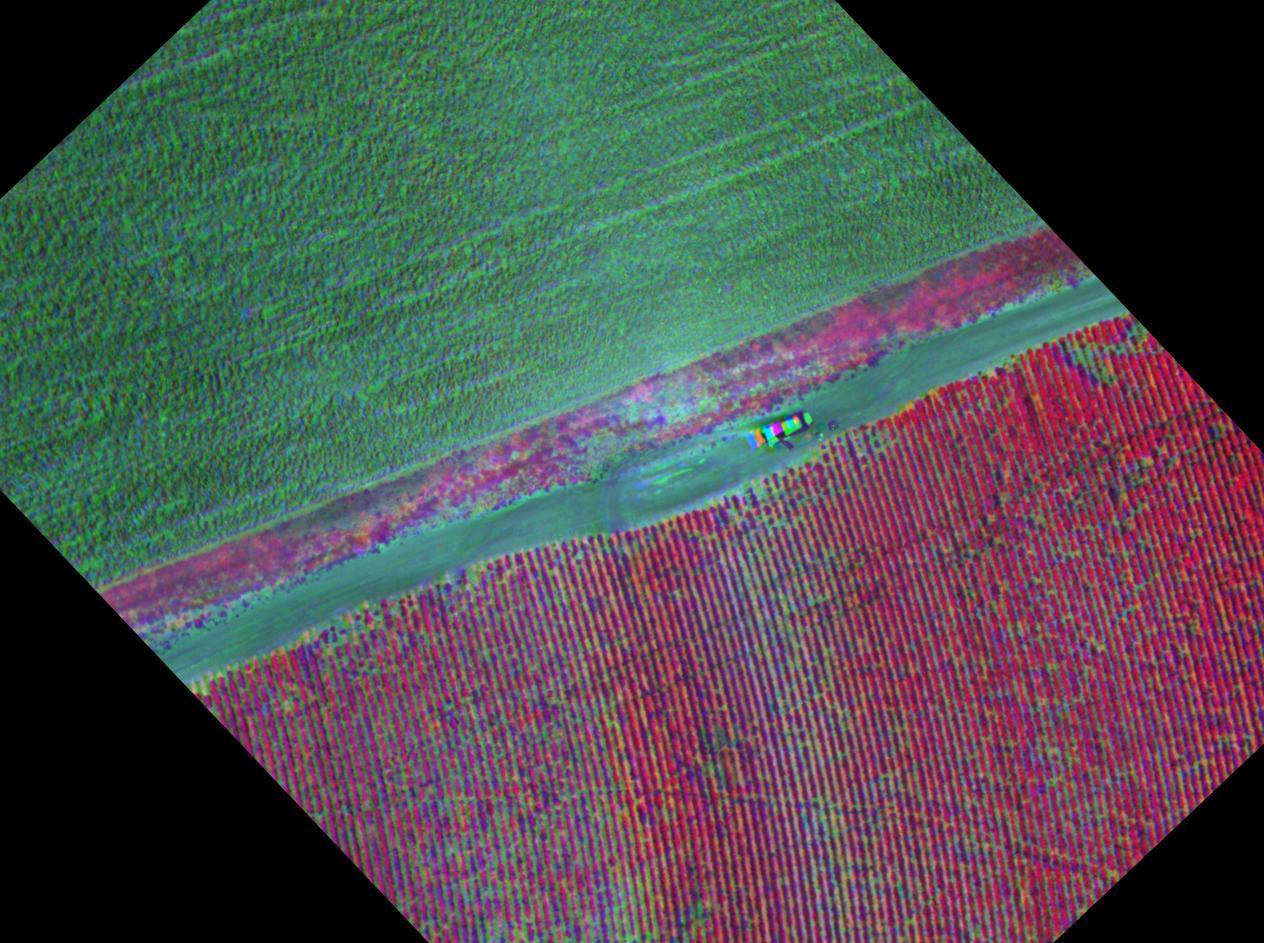dc: (756, 486, 761, 492), (202, 685, 206, 690), (628, 936, 633, 940), (339, 640, 343, 644), (732, 509, 735, 514), (556, 832, 559, 836), (818, 798, 821, 801)
